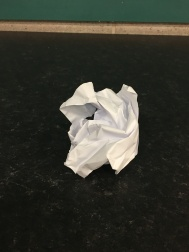paper_white: (48, 73, 149, 189)
